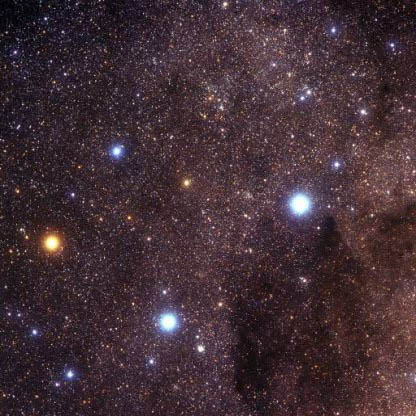Southern Cross: (142, 302, 188, 343), (279, 181, 316, 230), (32, 226, 71, 260), (101, 137, 140, 169)
